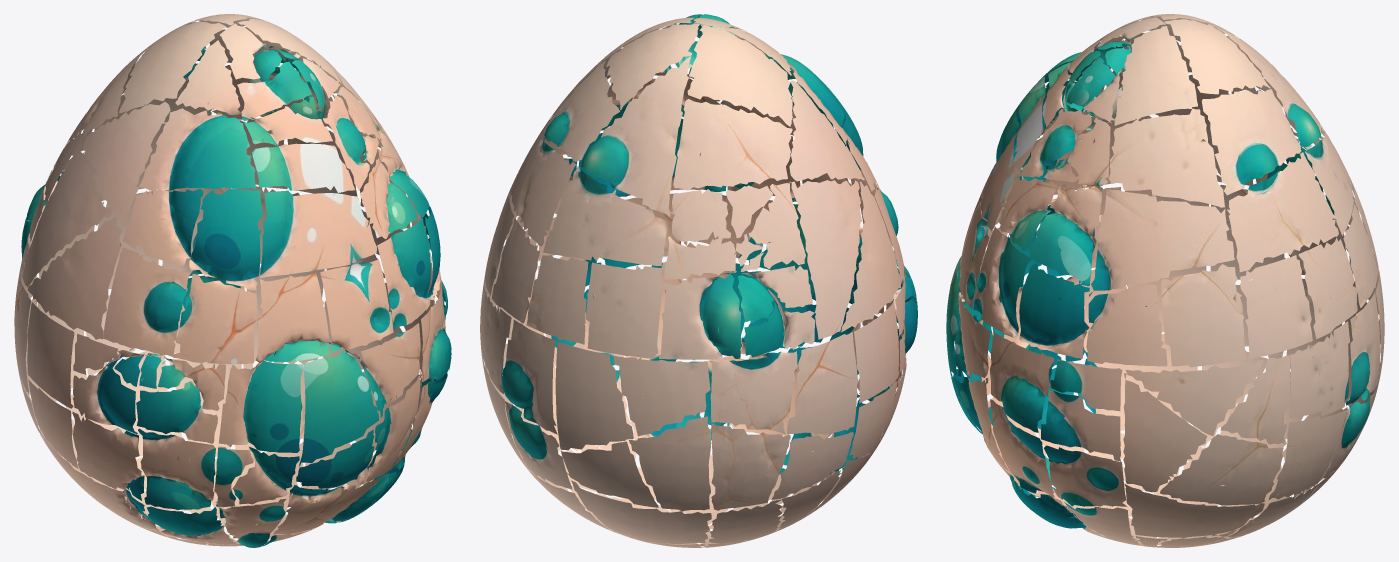
File: oeuf.glb
3 views of the same model, side by side, from view 1: azimuth 30°, elevation 25°; view 2: azimuth 150°, elevation 25°; view 3: azimuth 270°, elevation 25° (orthographic).
Visible parts, largest first — view 1: mesh_node; view 2: mesh_node; view 3: mesh_node.
Boxes of the visible parts, x1,y1,x2,y2 form: mesh_node: (14, 14, 451, 547); mesh_node: (480, 14, 917, 547); mesh_node: (946, 14, 1384, 547).
Bounding box in the file's own units: 1.47 × 1.9 × 1.49.
1 material, 1 textured.
